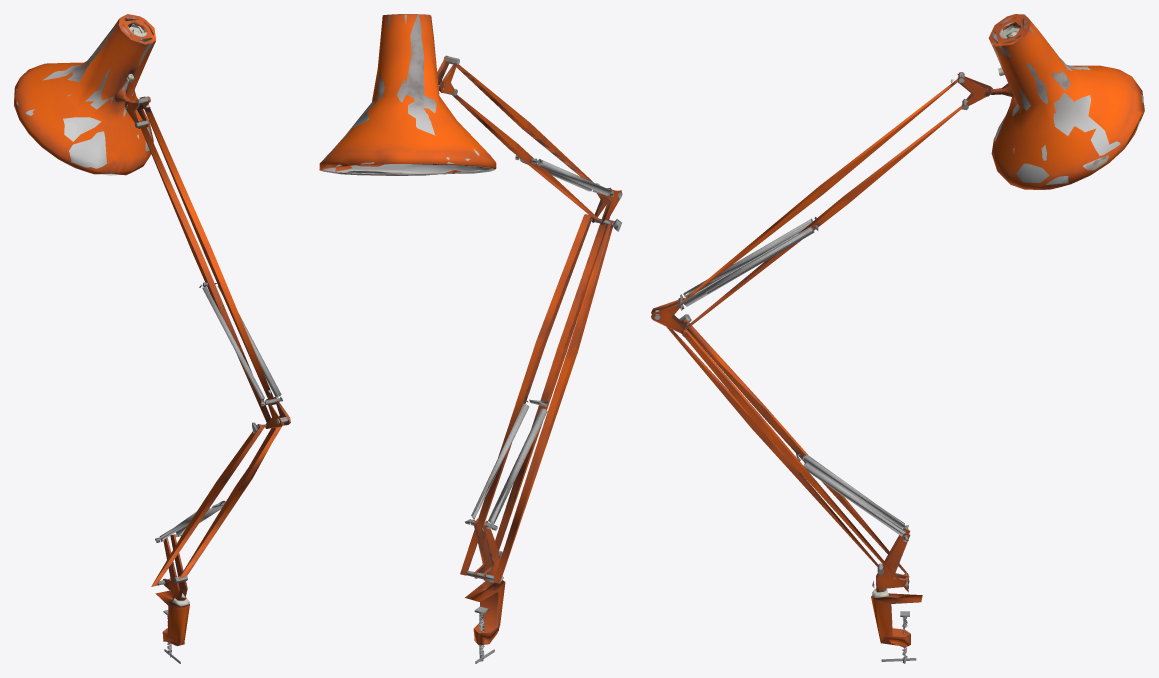
File: desk_lamp_arm_01.glb
The picture shows the model from 3 angles, left to right: view 1: azimuth 30°, elevation 25°; view 2: azimuth 150°, elevation 25°; view 3: azimuth 270°, elevation 25°; orthographic projection. The views are drawn at different scales.
Parts seen in each view (by area): view 1: desk_lamp_arm_01; view 2: desk_lamp_arm_01; view 3: desk_lamp_arm_01.
Boxes of the visible parts, box(x1,y1,x2,y2) form: desk_lamp_arm_01: box(14, 14, 290, 663); desk_lamp_arm_01: box(319, 14, 622, 663); desk_lamp_arm_01: box(651, 14, 1144, 663).
Bounding box in the file's own units: 0.1992 × 0.8923 × 0.6133.
Materials: 2 (2 with a texture image).
